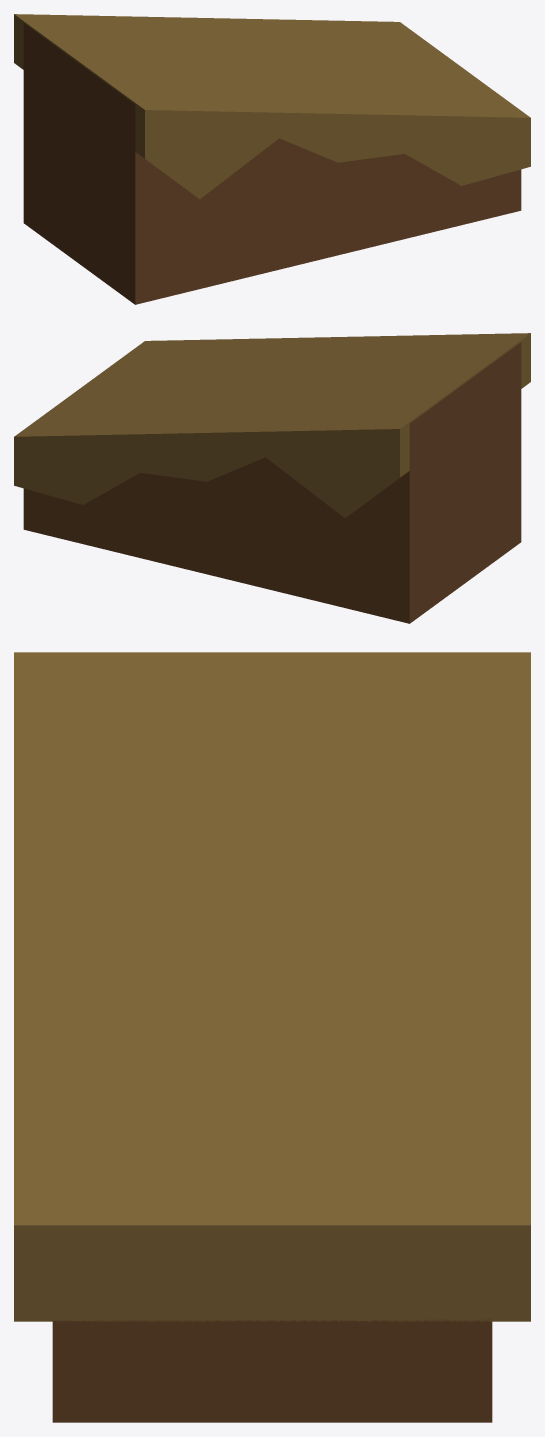
The model's file is Grass_Slope_lg.001.glb.
3 views of the same model, one above another, from view 1: azimuth 30°, elevation 25°; view 2: azimuth 150°, elevation 25°; view 3: azimuth 270°, elevation 25° (orthographic). The views are drawn at different scales.
Parts seen in each view (by area): view 1: Grass_Slope_lg.001; view 2: Grass_Slope_lg.001; view 3: Grass_Slope_lg.001.
Boxes of the visible parts, x1,y1,x2,y2 form: Grass_Slope_lg.001: (14,14,530,304); Grass_Slope_lg.001: (14,333,530,623); Grass_Slope_lg.001: (14,652,530,1422).
Bounding box in the file's own units: 4 × 2 × 2.35.
Materials: 1 (1 with a texture image).
